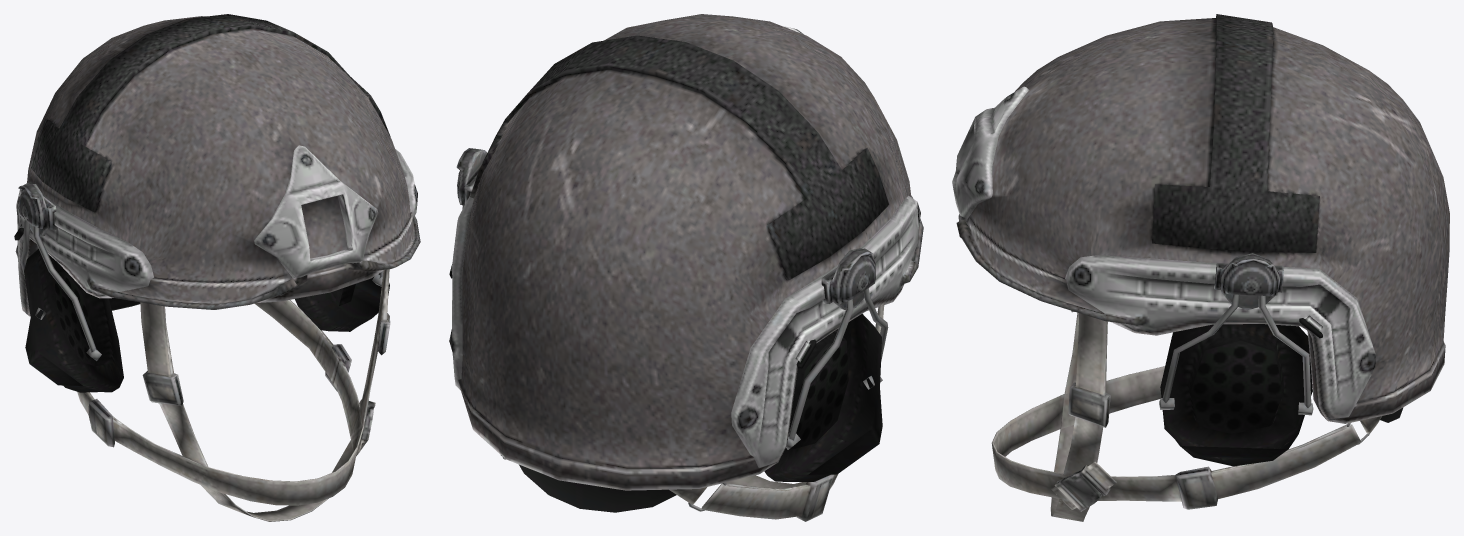
Rendered from SurvivorMale_Head_Helmet_ParaMilitary_LOD0.glb.
3 renders of one model, left to right at view 1: azimuth 30°, elevation 25°; view 2: azimuth 150°, elevation 25°; view 3: azimuth 270°, elevation 25°, orthographic. The views are drawn at different scales.
Visible parts, largest first — view 1: Hoodie; view 2: Hoodie; view 3: Hoodie.
Boxes of the visible parts, x1,y1,x2,y2 form: Hoodie: (14, 14, 420, 521); Hoodie: (449, 14, 923, 521); Hoodie: (952, 14, 1449, 521).
Size of the model in its own units: 0.2208 by 0.266 by 0.251.
Materials: 1 (1 with a texture image).
